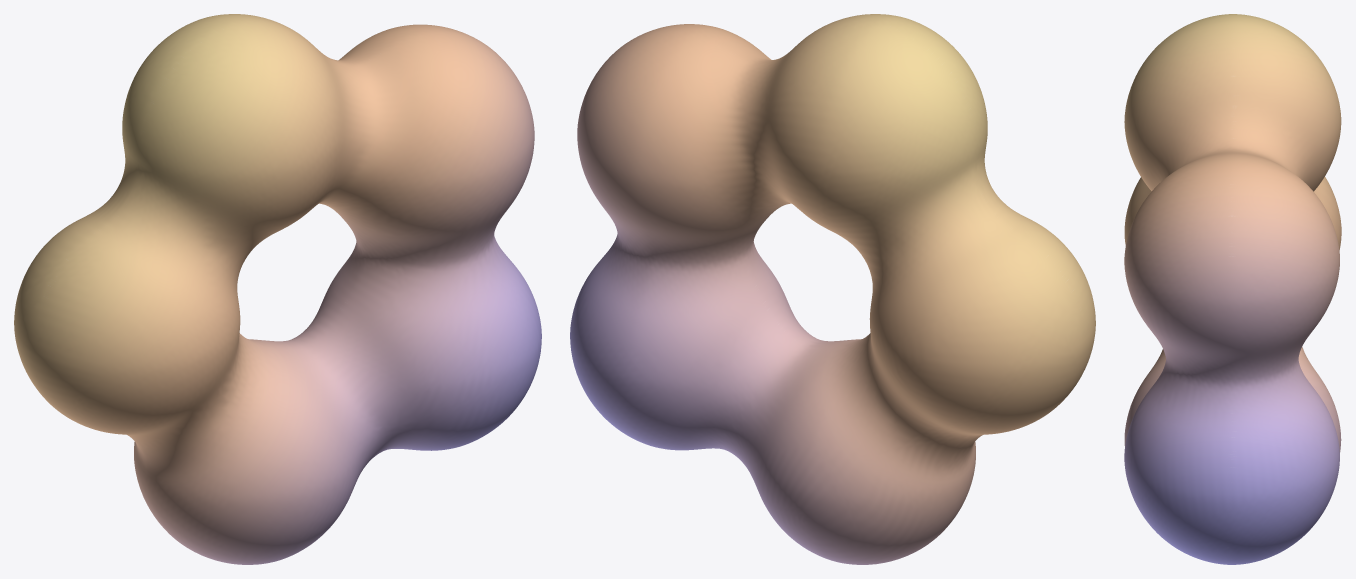
File: 07_munchkin_static.glb
The picture shows the model from 3 angles, left to right: view 1: azimuth 30°, elevation 25°; view 2: azimuth 150°, elevation 25°; view 3: azimuth 270°, elevation 25°; orthographic projection. The views are drawn at different scales.
Visible parts, largest first — view 1: 07_munchkin.2_remesh; view 2: 07_munchkin.2_remesh; view 3: 07_munchkin.2_remesh.
Boxes of the visible parts, x1,y1,x2,y2 form: 07_munchkin.2_remesh: (14,14,541,564); 07_munchkin.2_remesh: (570,14,1095,564); 07_munchkin.2_remesh: (1124,14,1341,564).
Size of the model in its own units: 0.1283 by 0.1316 by 0.0509.
Materials: 1 (1 with a texture image).
